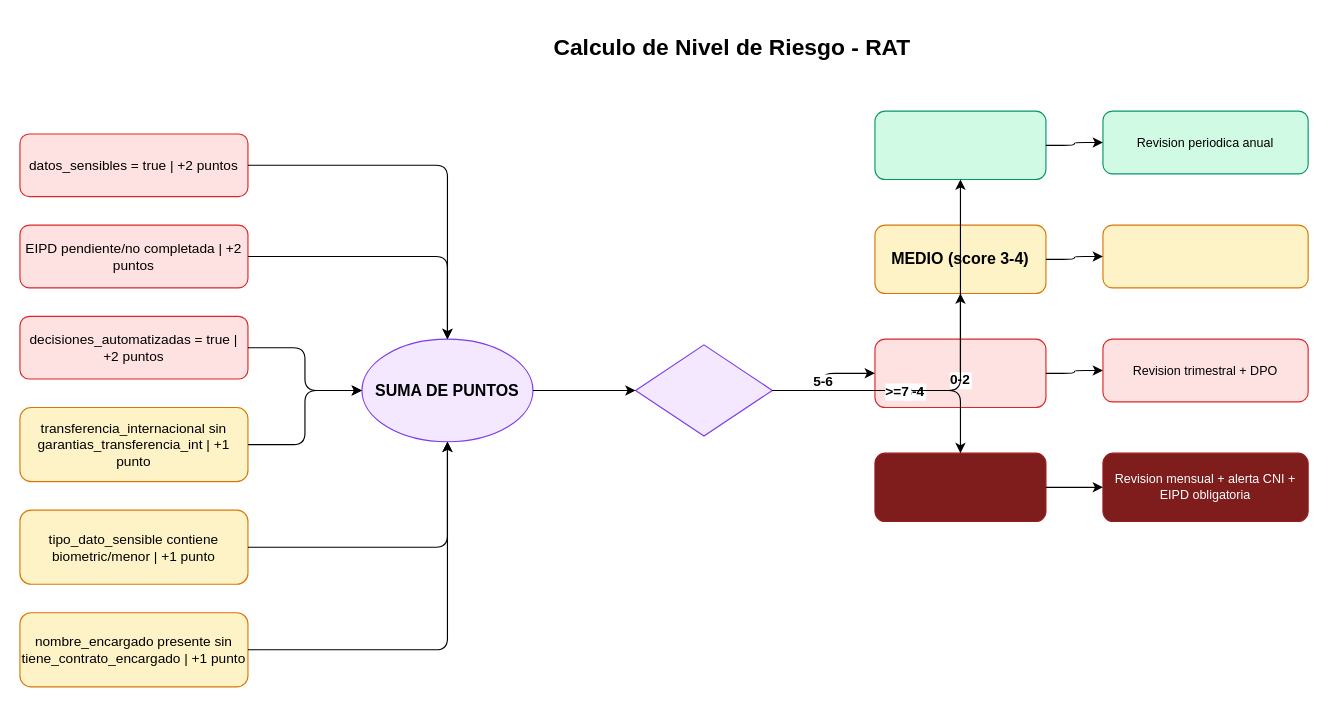
Image size: 1328x707. Some labels were removed from this diagram. The shapes that lost their labels are listed below. From the top down, each one's centre as x and y in pixels, then its label:
At (x=960, y=145): "BAJO (score 0-2)".
At (x=1205, y=256): "Revision semestral".
At (x=703, y=390): "score".
At (x=960, y=373): "ALTO (score 5-6)".
At (x=960, y=487): "CRITICO (score >= 7)".
